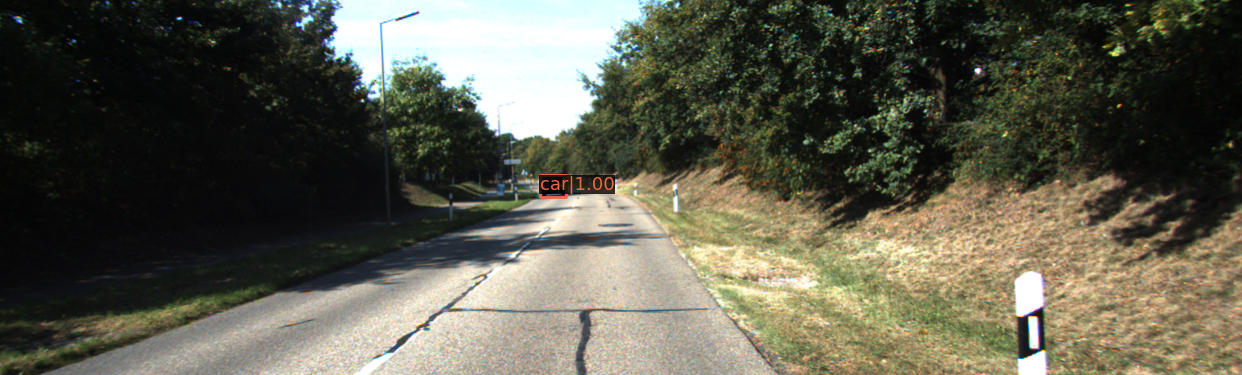car: (539, 176, 566, 201)
